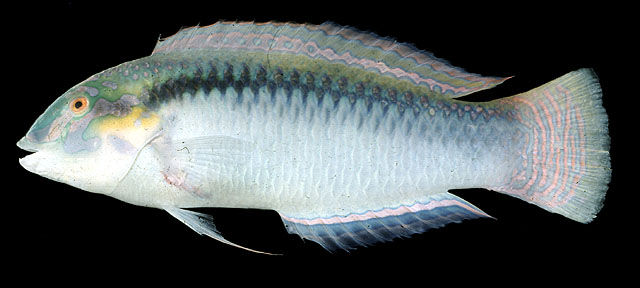fish: (16, 20, 612, 256)
